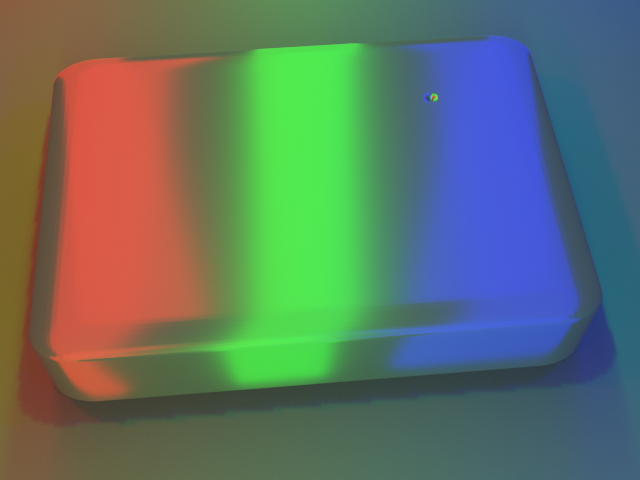dent: (423, 67, 460, 101)
